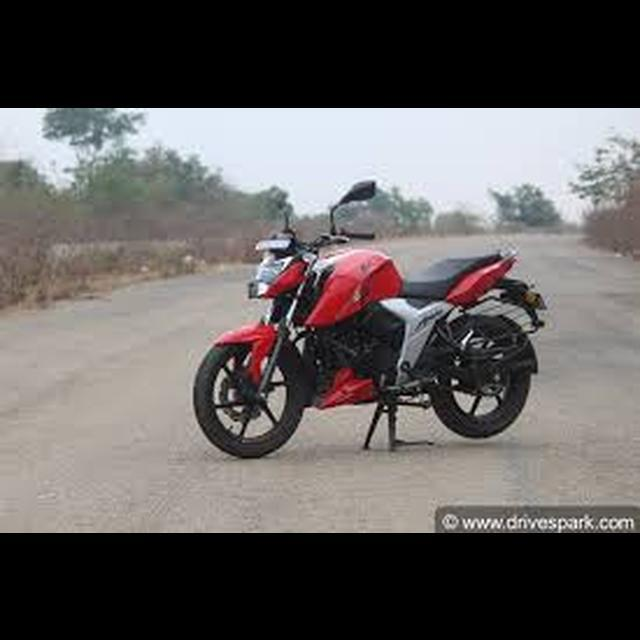motorcycle: (189, 175, 553, 464)
